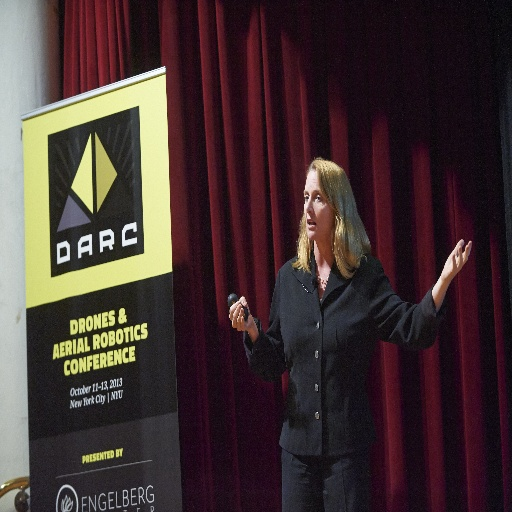hand: (443, 236, 471, 280), (227, 293, 253, 331)
